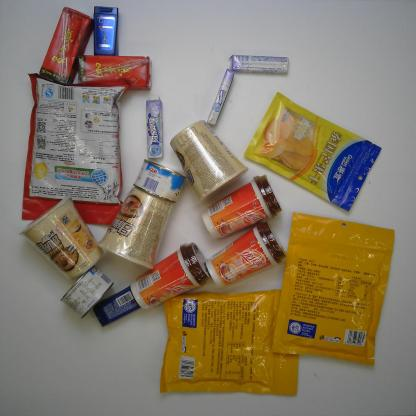Candy: (206, 68, 235, 125), (226, 53, 290, 76), (144, 96, 164, 160)
Canned Food: (59, 265, 114, 318), (132, 158, 187, 202)
Dried Fruit: (271, 209, 395, 370), (244, 92, 382, 211), (158, 288, 300, 397)
Drink: (37, 5, 92, 86), (76, 54, 152, 89)
Instant Drink: (23, 72, 131, 227), (129, 242, 212, 310), (205, 220, 285, 288), (200, 174, 282, 238)
Instant Noodles: (19, 196, 104, 277), (95, 186, 174, 272), (170, 120, 247, 202)
Personal Hygiene: (91, 284, 145, 327), (92, 6, 117, 56)
